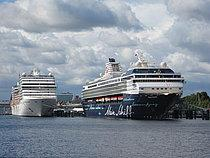Ship: (80, 48, 187, 121), (8, 66, 64, 118)
